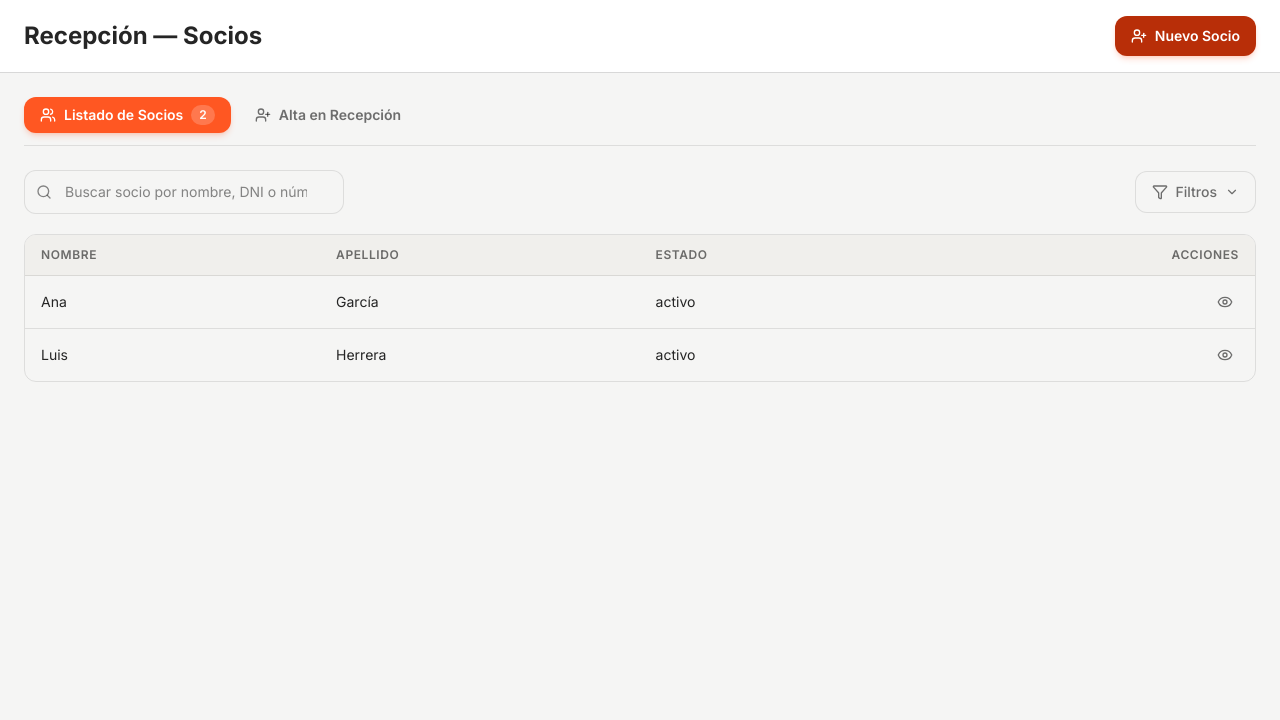
Test: GestionSociosPage › clicking Cancel in form tab returns to listado tab
This screenshot has width=1280, height=720.
Click the tab "Alta en Recepción". click: x=328, y=115
box: left=239, top=97, right=417, bottom=133
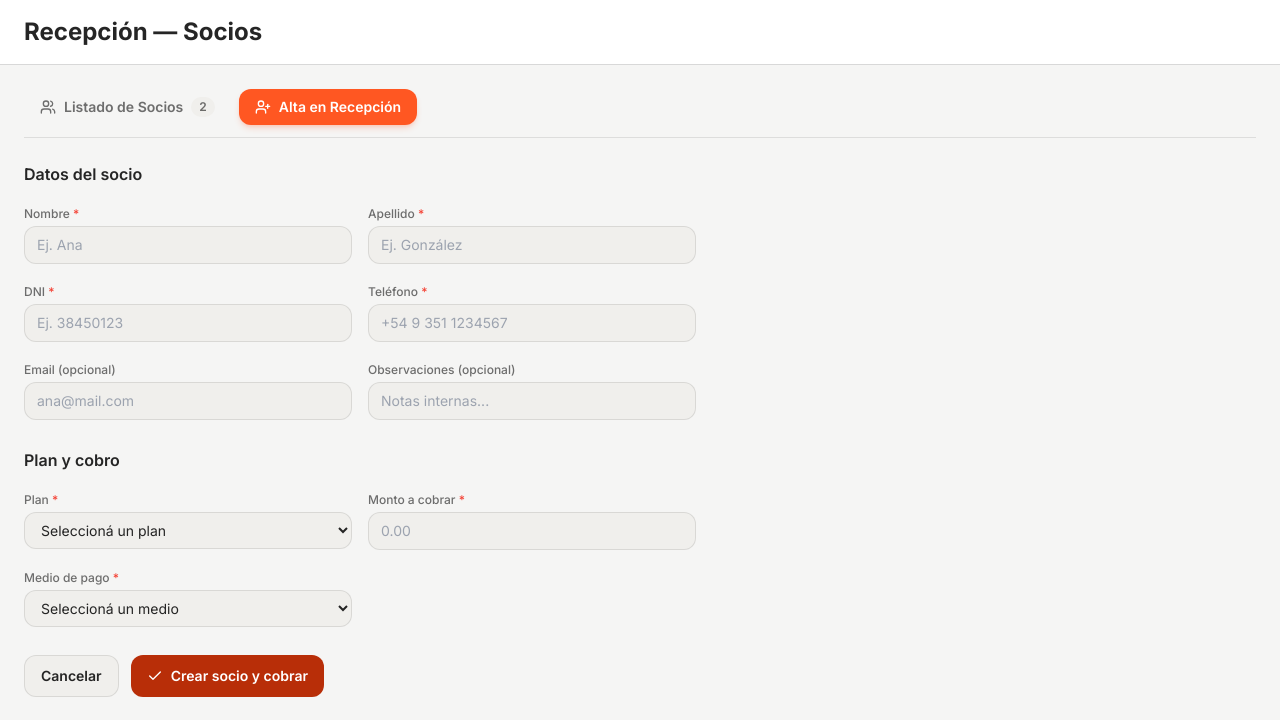
Expected: the button "Cancelar" is shown
Click the button "Cancelar". click: x=71, y=676
box: left=24, top=655, right=119, bottom=697
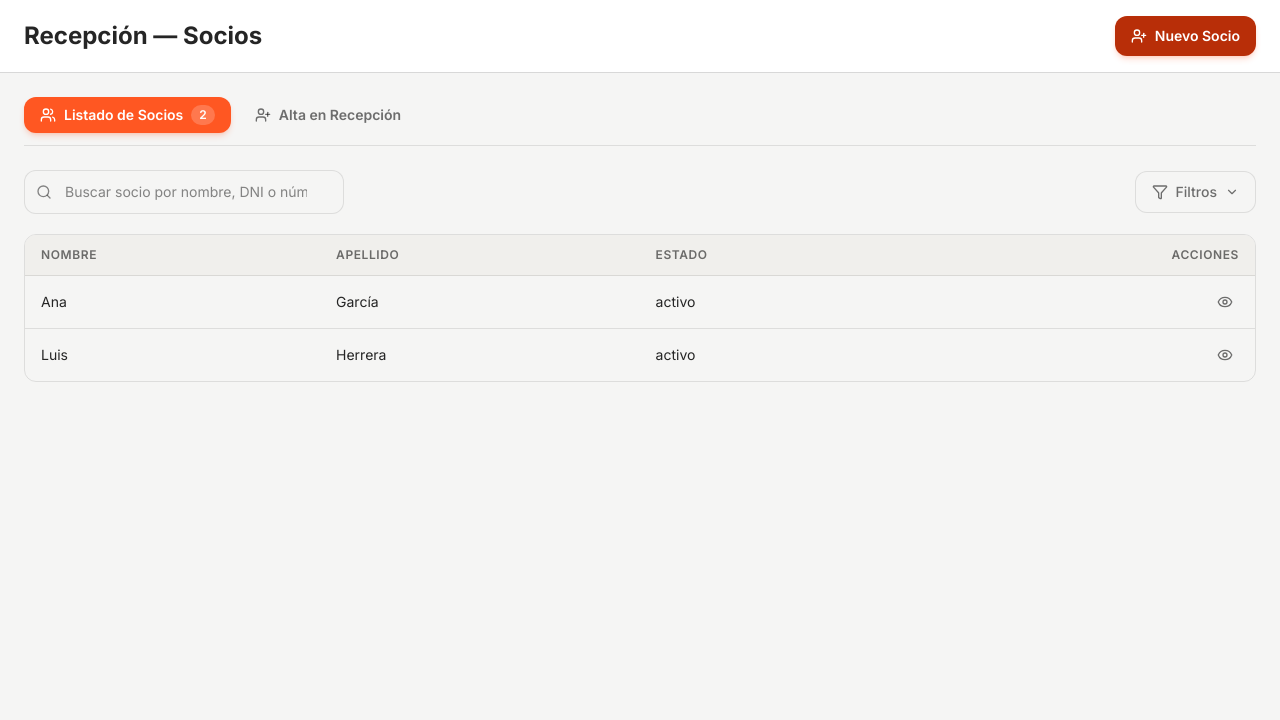
Expected: the text "Ana" is shown, left=25, top=276, right=320, bottom=328
